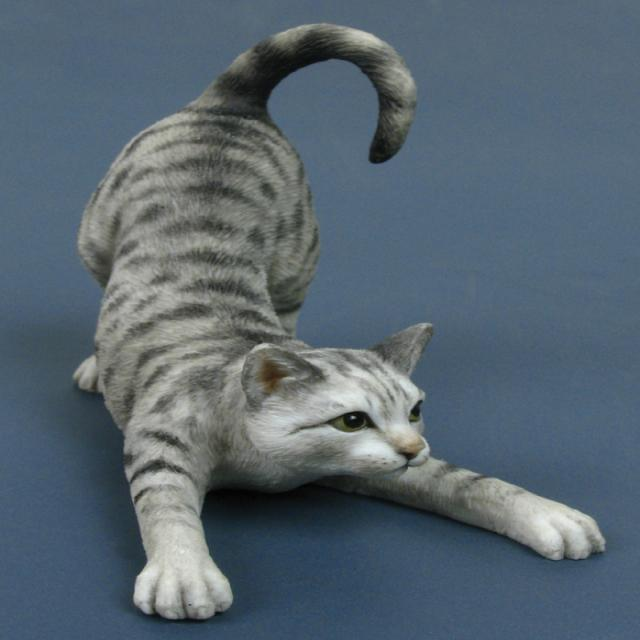Egyptian_Mau: (230, 315, 441, 504)
